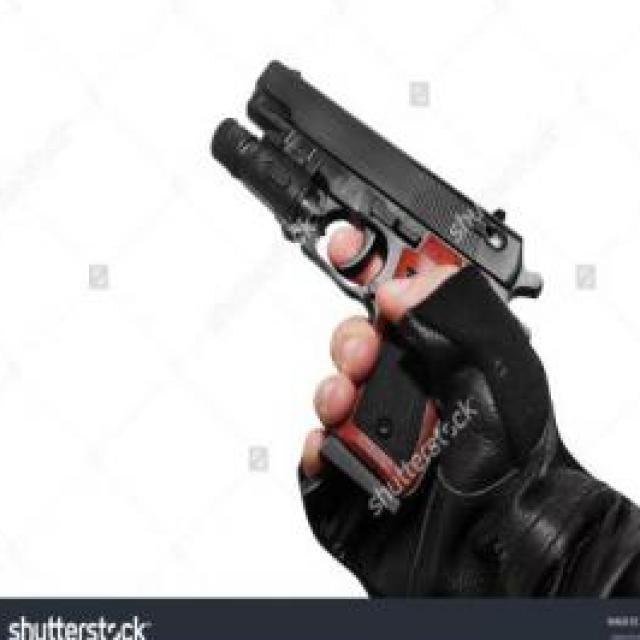pistol: (209, 55, 551, 514)
